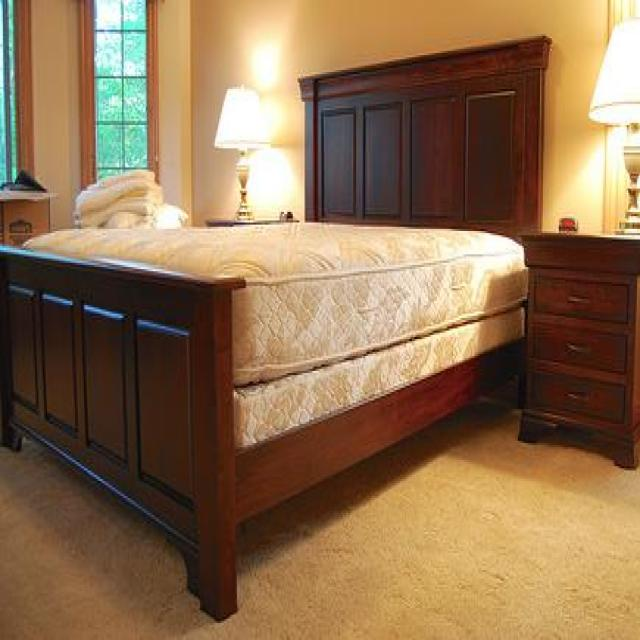bed: (1, 28, 554, 624)
